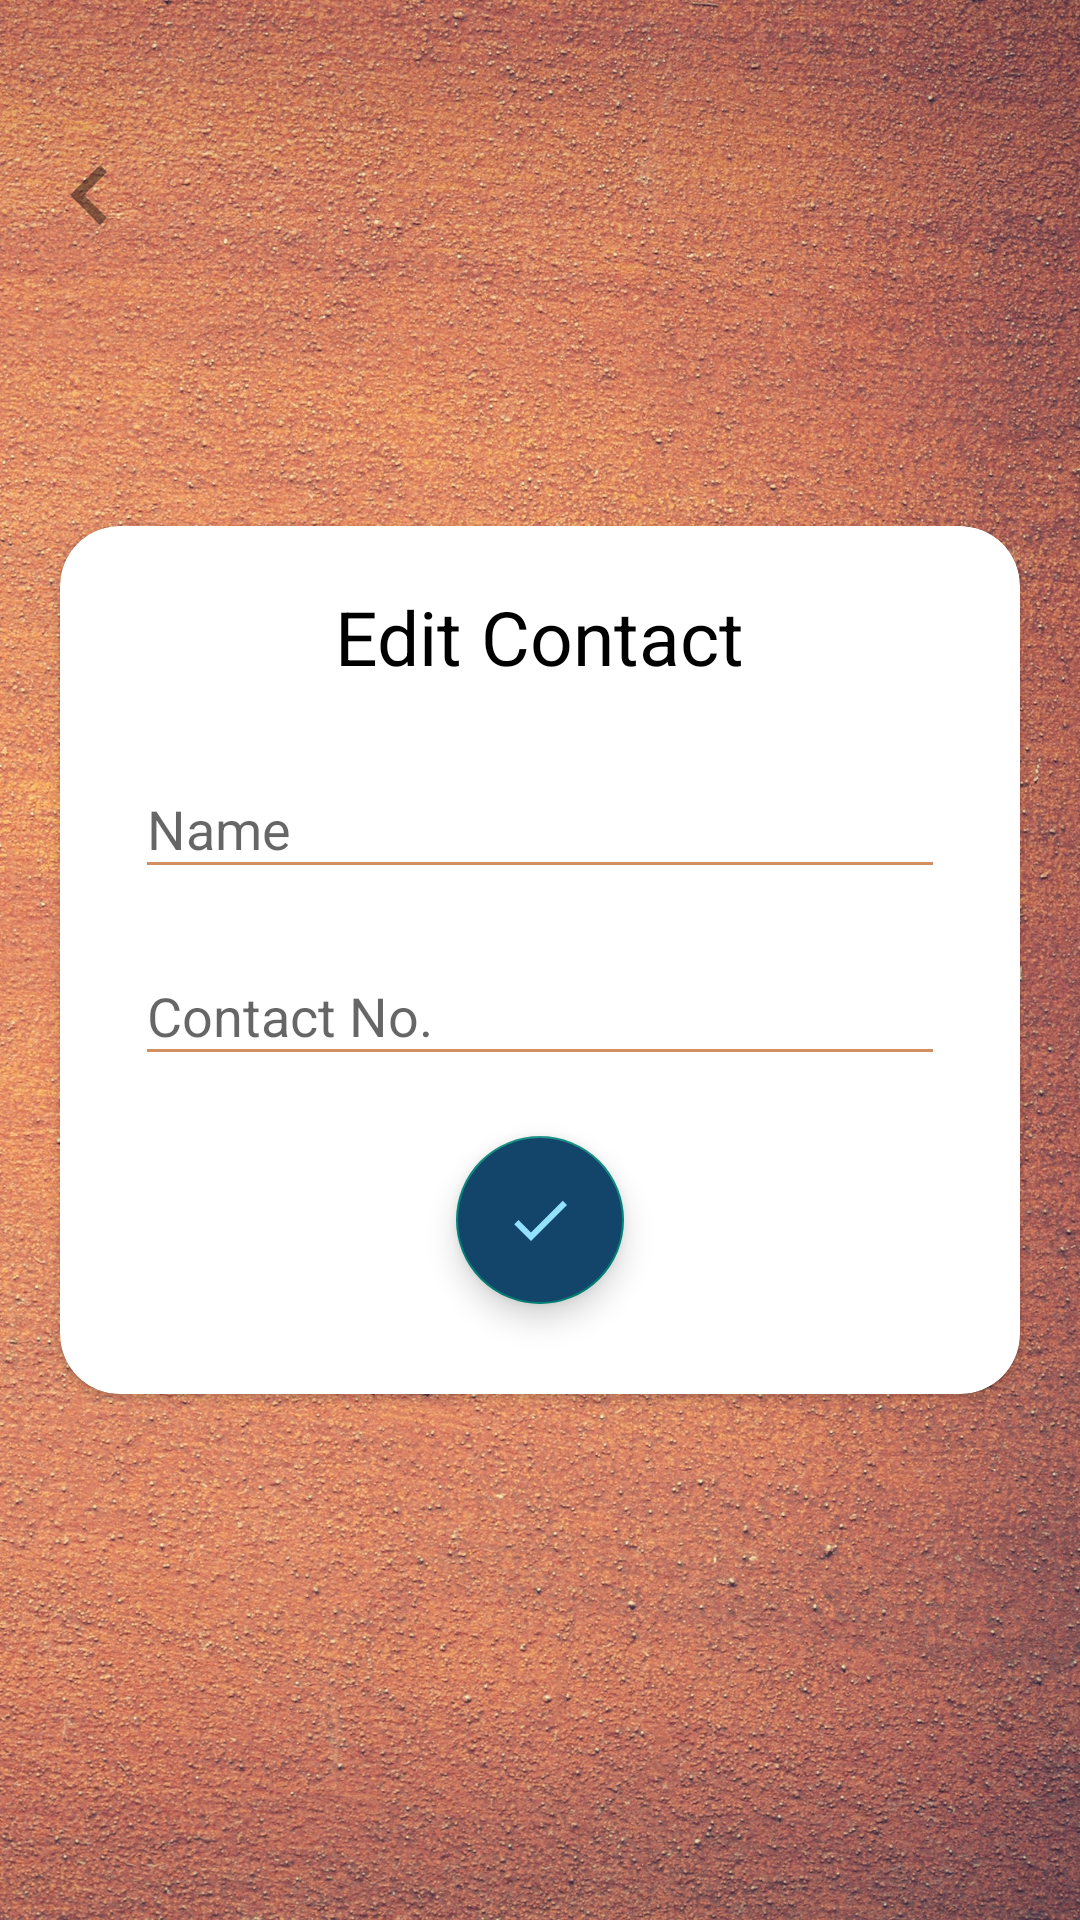

Where to tap for icons on this 1080×1920 app screen, as [x,y]:
add save check: [540,1220]
back: [90,195]
